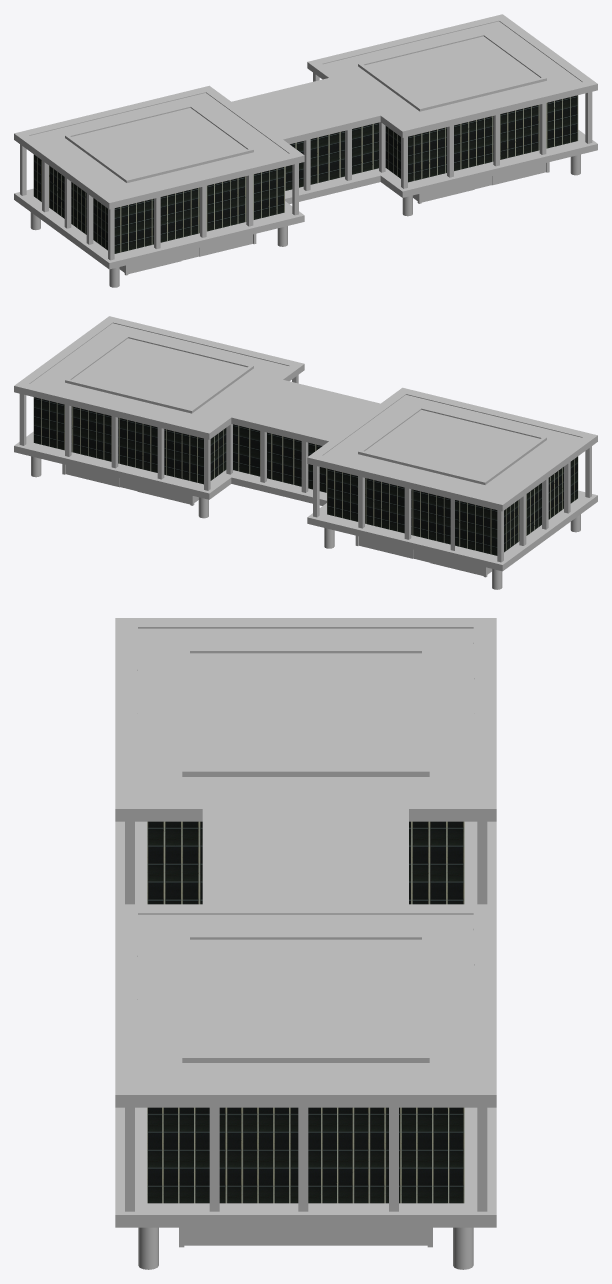
3 views of the same model, one above another, from view 1: azimuth 30°, elevation 25°; view 2: azimuth 150°, elevation 25°; view 3: azimuth 270°, elevation 25° (orthographic). The views are drawn at different scales.
Parts seen in each view (by area): view 1: BB-062; view 2: BB-062; view 3: BB-062.
Boxes of the visible parts, left/top/right/bottom form: BB-062: left=14, top=14, right=597, bottom=287; BB-062: left=14, top=316, right=597, bottom=589; BB-062: left=115, top=618, right=496, bottom=1269.
Size of what is drawn, in the model's own units: 85.29 by 15.64 by 28.81.
